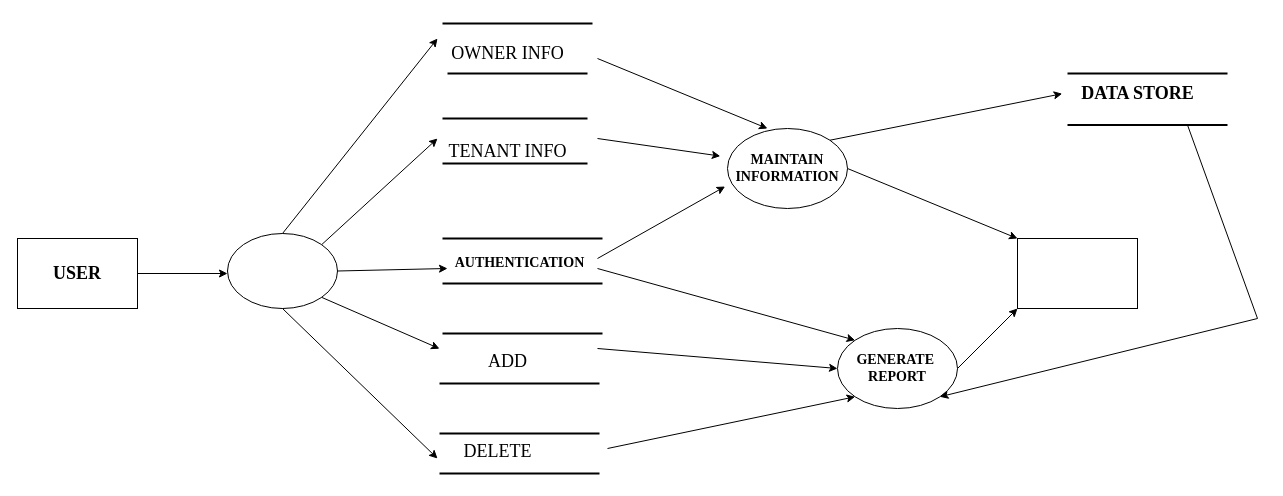
Some shapes in this 1283 by 496 pixel diagram are drawn without their labels. Here are the shapes that lost their labels. From the top down, the centre of each, then its label:
the point at 282,270: RECEIVED LOGIN FORM
the point at 1077,273: ADMIN
